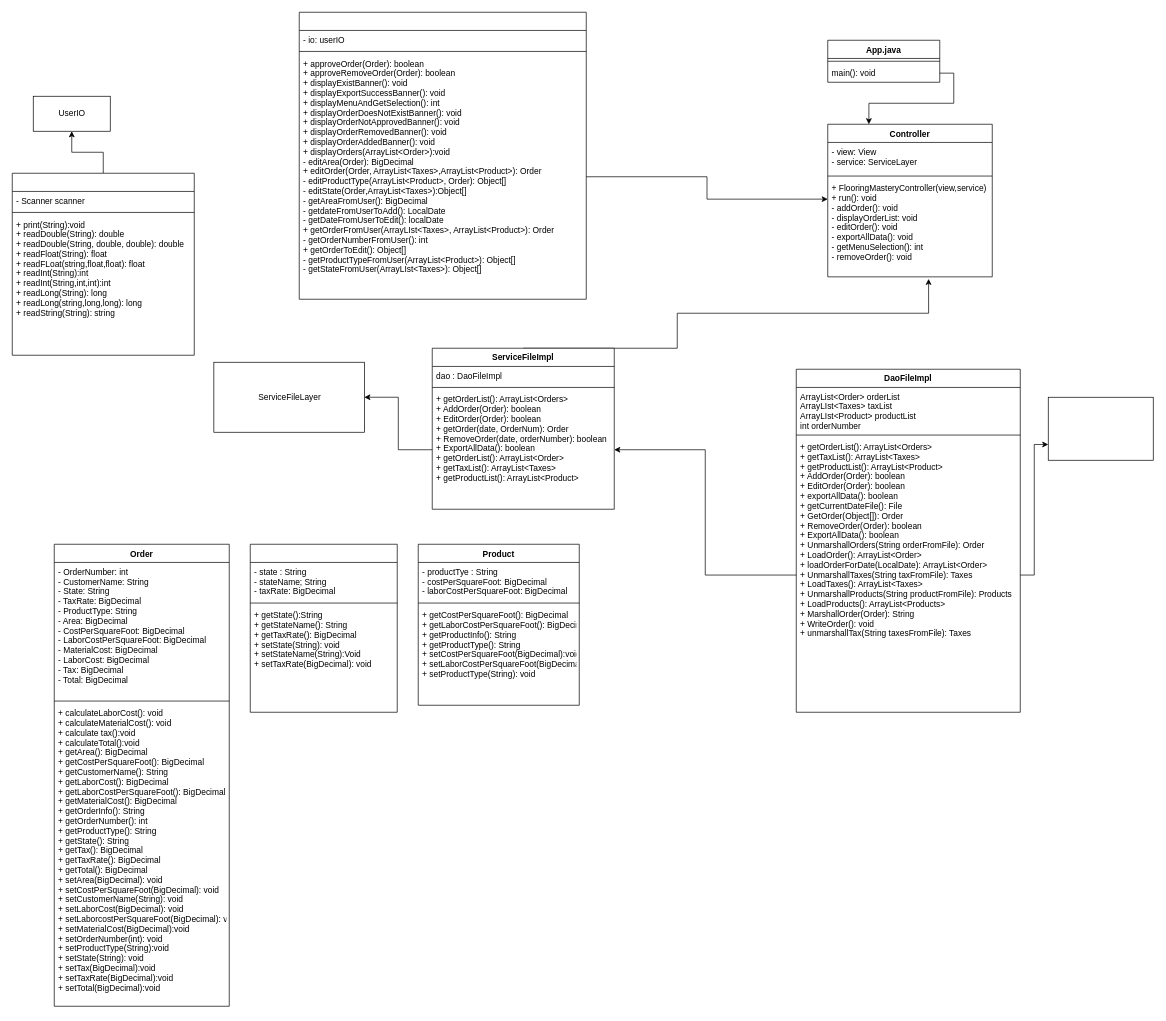
This 1166x1021 diagram has some shape labels left out. The shapes that lost their labels are listed below. From the top down, each one's box as (x1, y1, x2, y2) in pixels, then its label:
(299, 12, 586, 299): View
(12, 173, 194, 355): UserIOConsoleImpl
(1048, 397, 1153, 460): FlooringMasteryDao
(250, 544, 397, 712): Taxes
